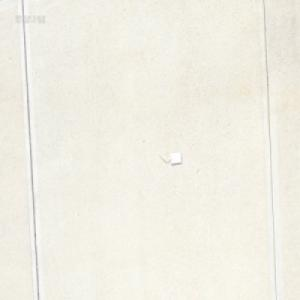LuggageTag: (157, 150, 182, 166)
